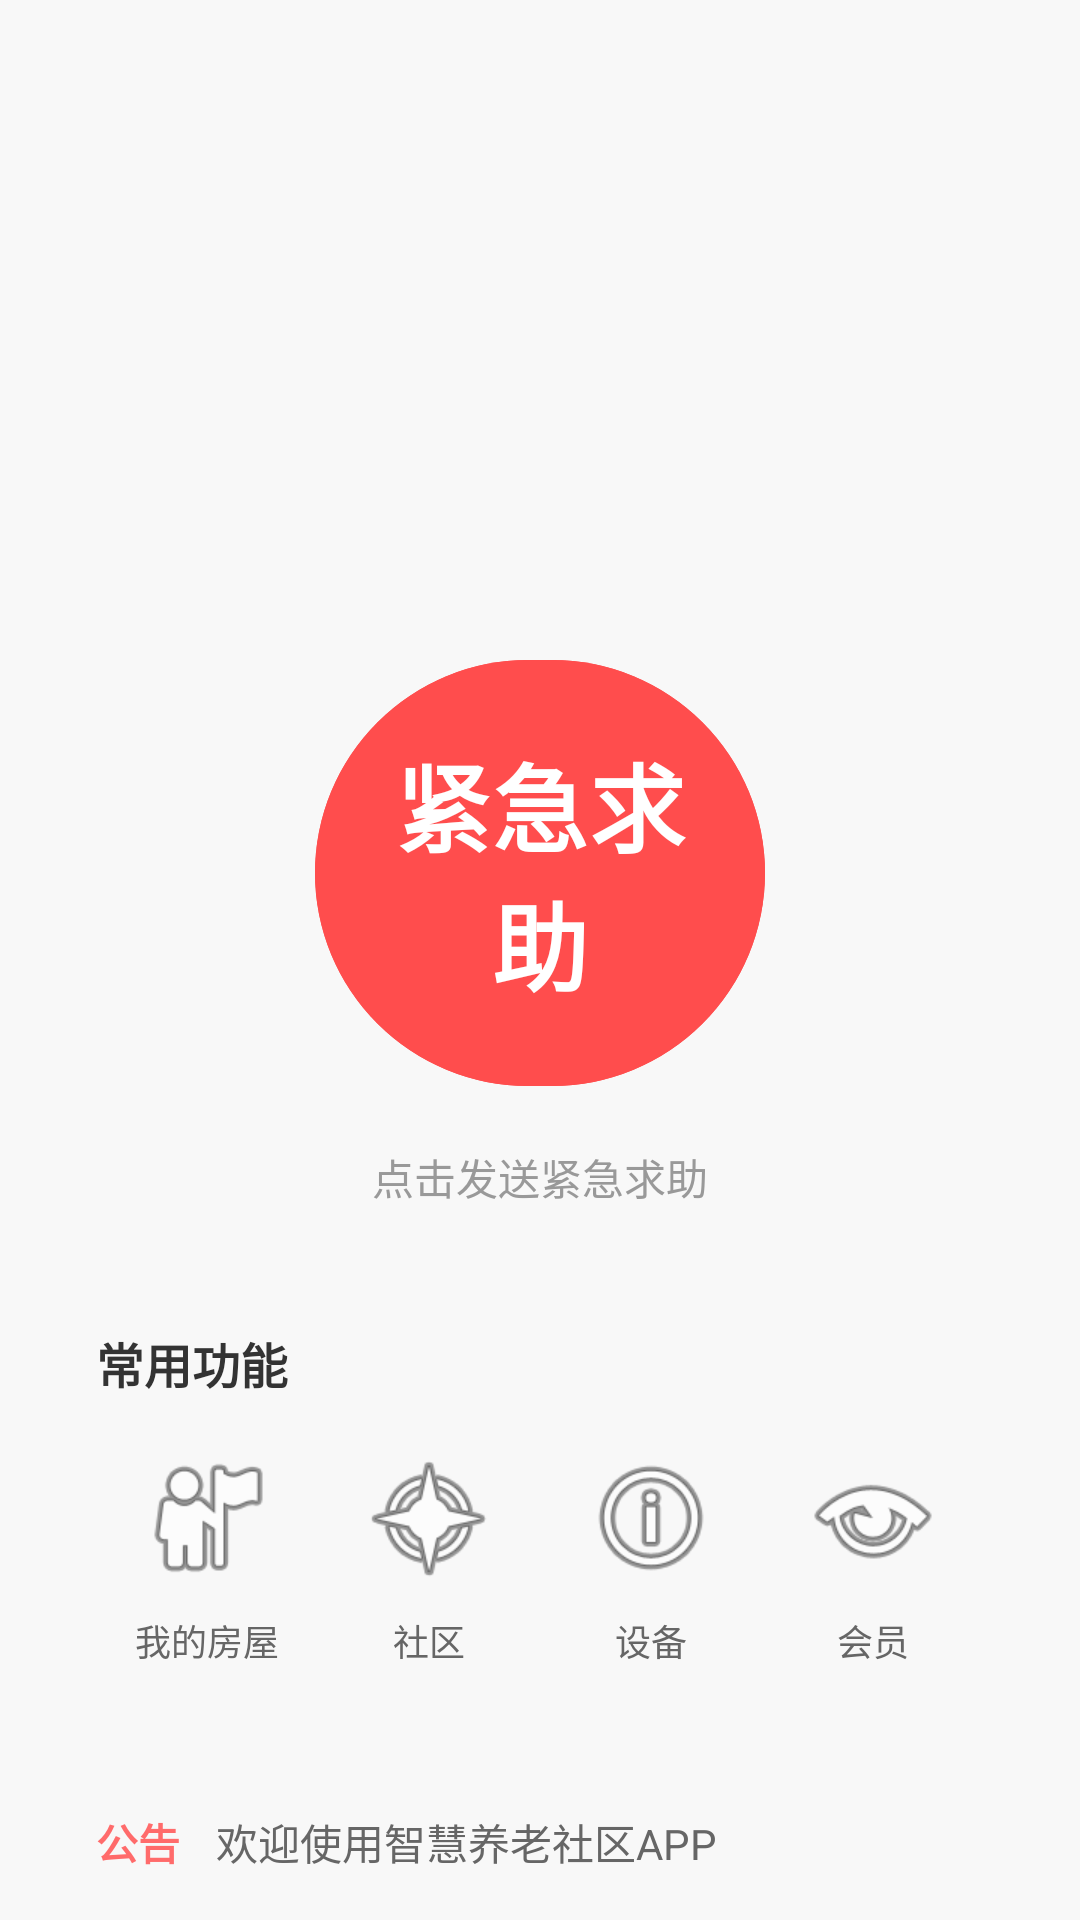

Locate icon controls on the screen. Image size 1080 x 1920, boxes as (x1, y1, x2, y2).
compass: (372, 1462, 485, 1576)
info details: (599, 1466, 703, 1570)
myplaces: (154, 1464, 263, 1572)
view: (814, 1485, 932, 1559)
